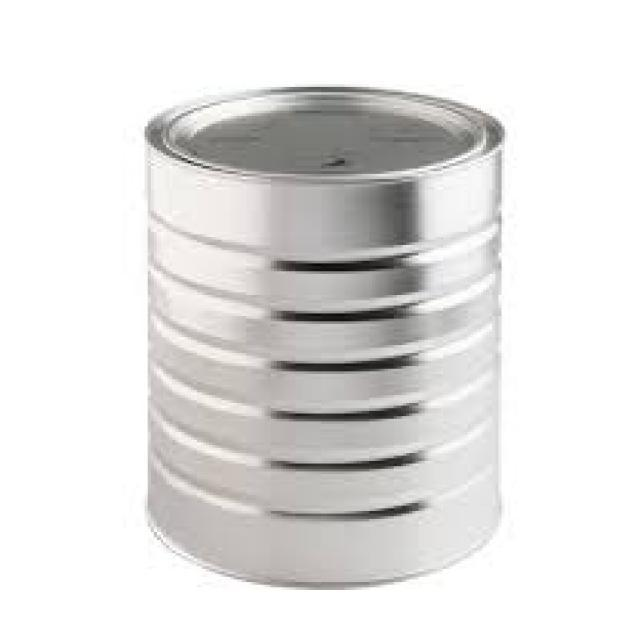recyclable: (140, 85, 506, 590)
